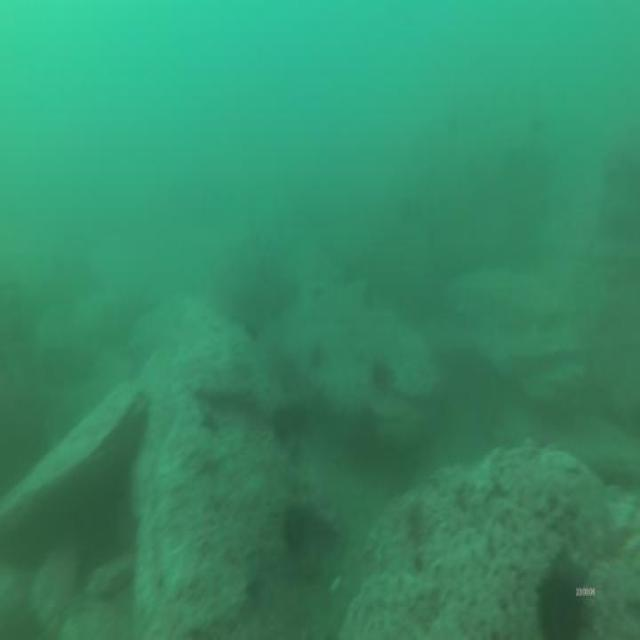echinus: (540, 575, 580, 640), (281, 506, 307, 550), (371, 356, 393, 396), (270, 406, 292, 444)
